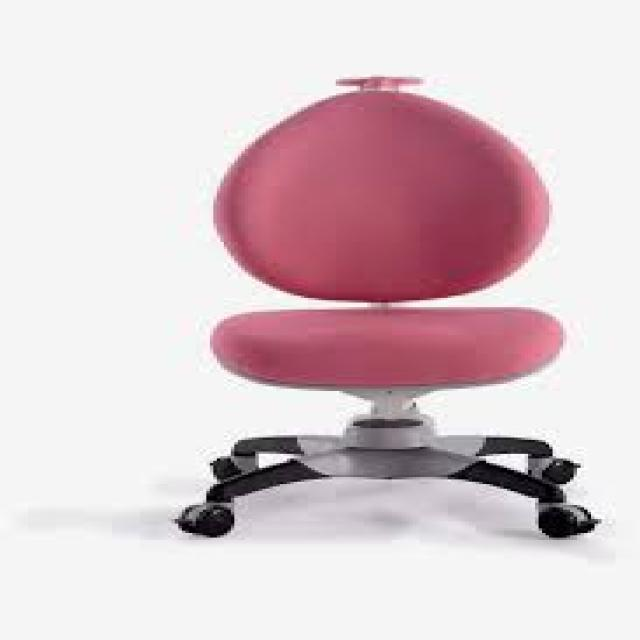chair: (94, 26, 640, 627)
